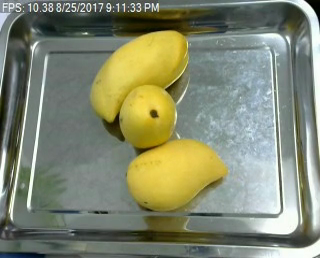Mango: (90, 30, 191, 124), (126, 138, 231, 215), (116, 83, 182, 145)
